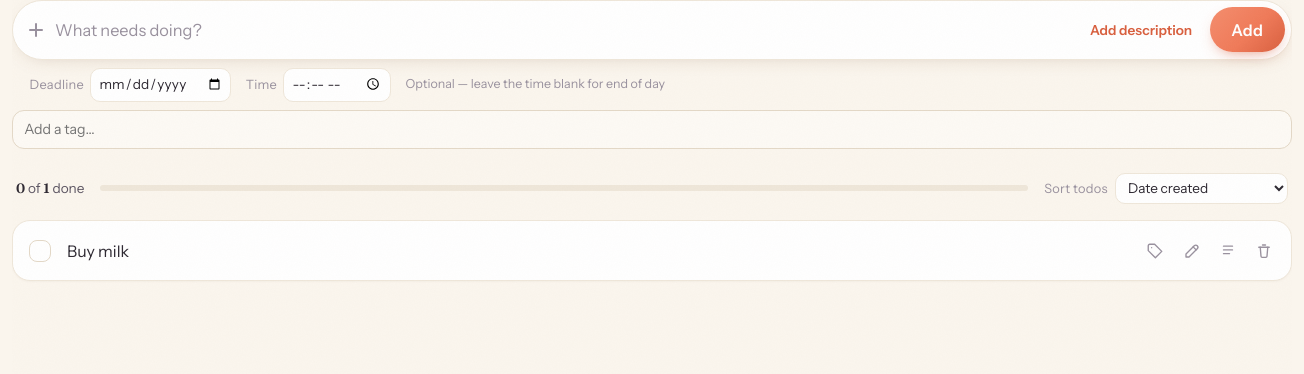
Test: TodoApp description edit › adds a description and shows it in the list
Step 1. Click the button named "Add description for \"Buy milk\"" → coordinates (1228, 251), box top-left (1211, 234), bottom-right (1245, 268)
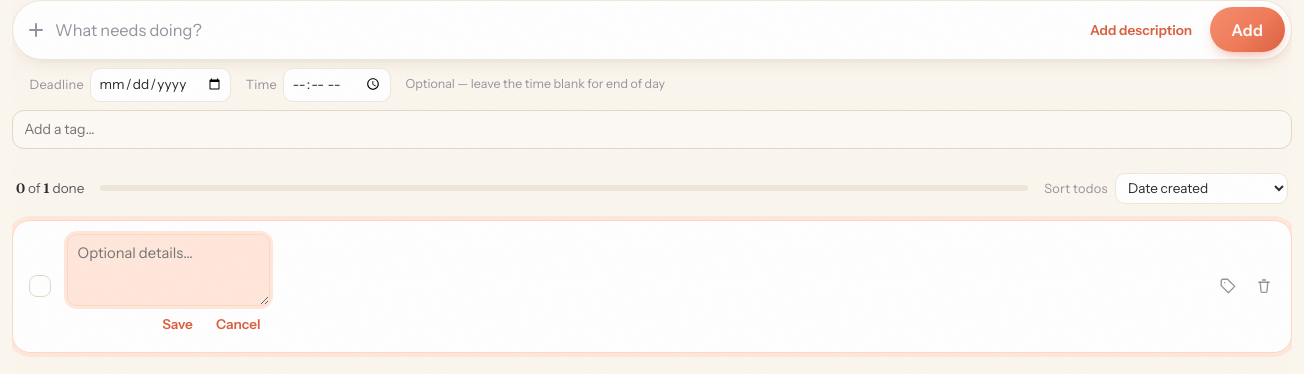
Step 2. Type "Two bottles" into the text box named "Edit todo description" → coordinates (169, 270), box top-left (67, 234), bottom-right (270, 306)
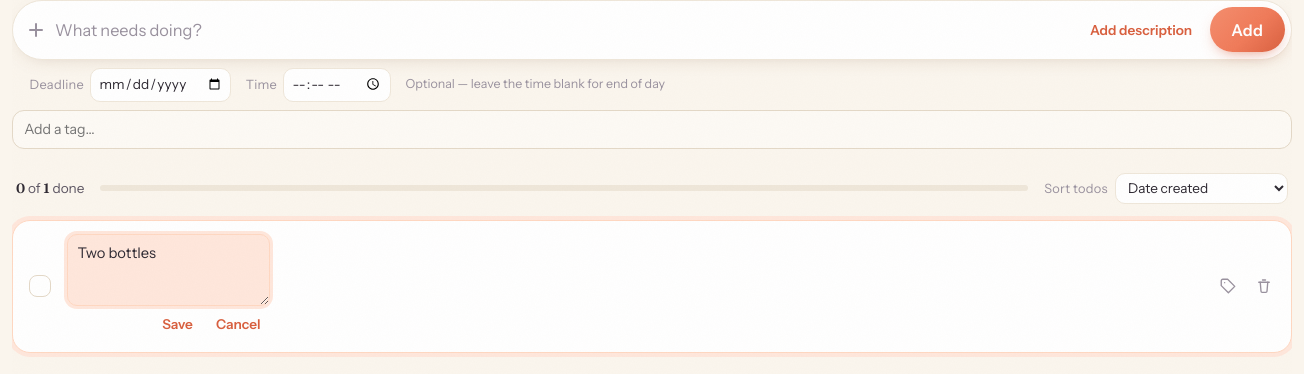
Step 3. Click the button named "Save description for \"Buy milk\"" → coordinates (177, 325), box top-left (152, 310), bottom-right (202, 339)
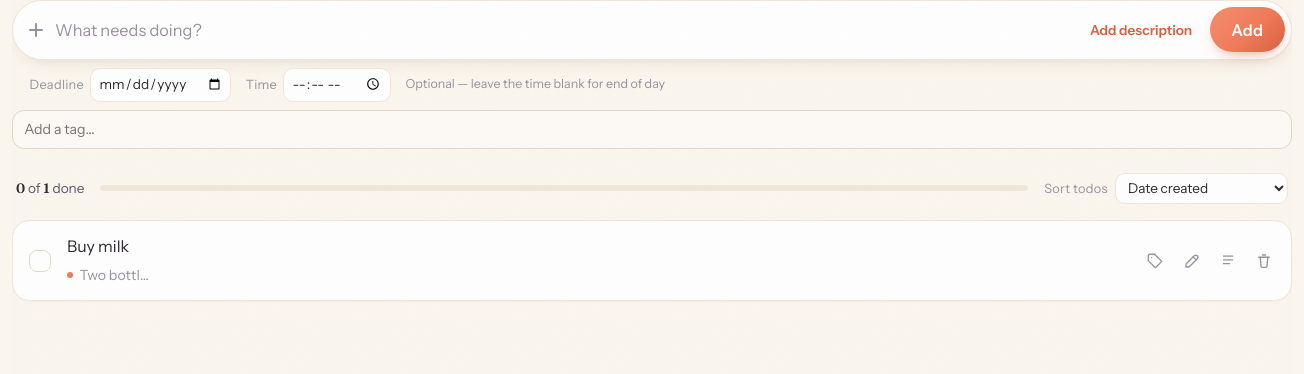
Expected: the button named "Show description for \"Buy milk\"" reads "Two bottles", top-left (63, 263), bottom-right (154, 288)
